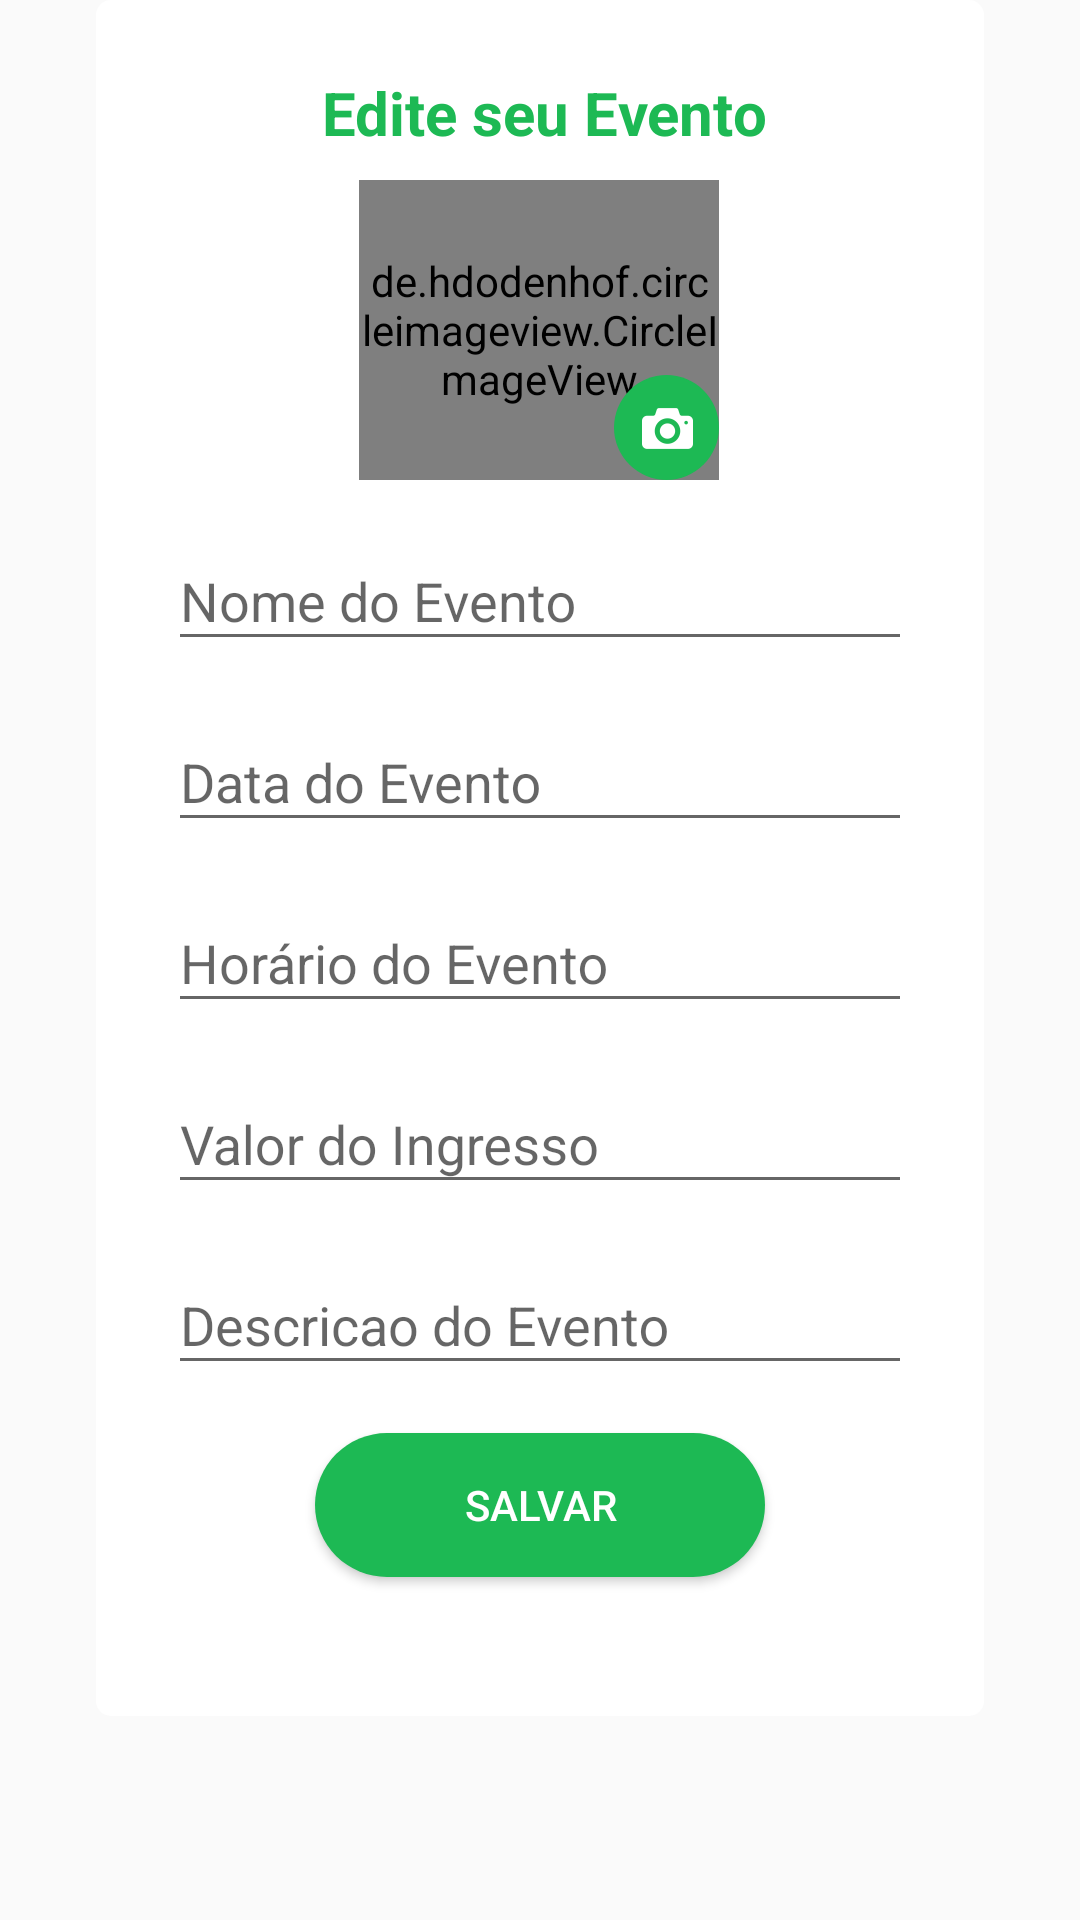

Point at icon controls on the screen. Image size 1080px x 1920px, points as point (x, y).
photo event: point (666, 427)
